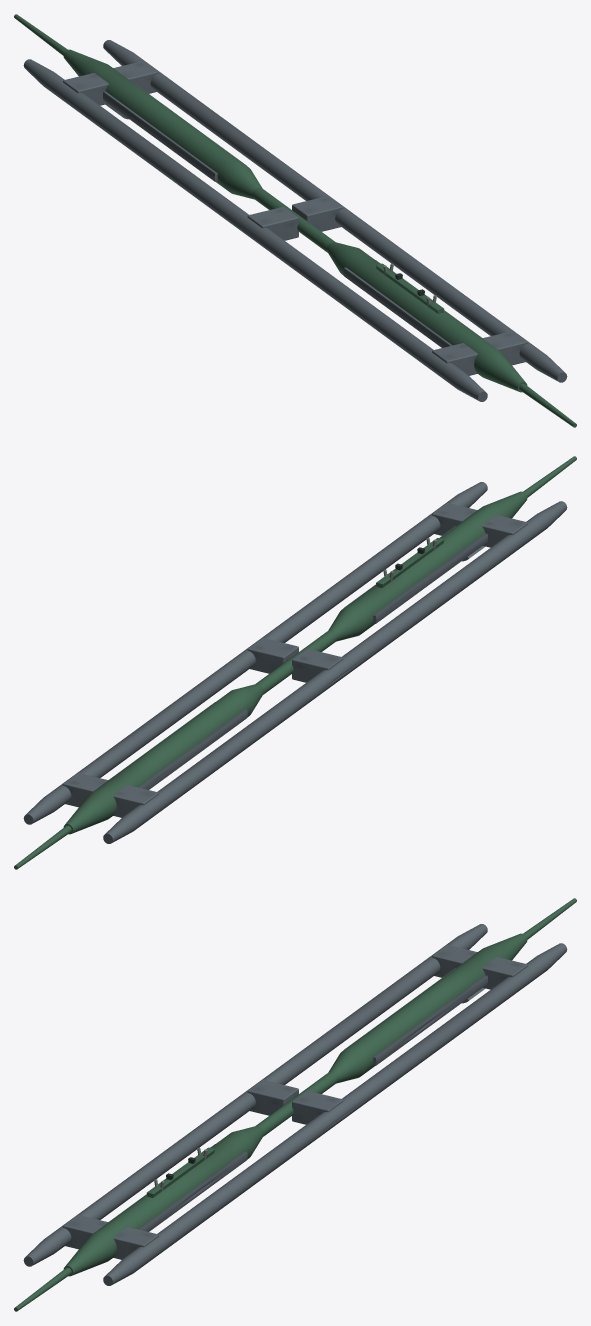
3 views of the same model, one above another, from view 1: azimuth 30°, elevation 25°; view 2: azimuth 150°, elevation 25°; view 3: azimuth 330°, elevation 25° (orthographic).
Parts seen in each view (by area): view 1: Mikotaj Kal-Na-Xanth grey left frame, Mikotaj Kal-Na-Xanth grey right frame, Mikotaj Kal-Na-Xanth green rear section, Mikotaj Kal-Na-Xanth green forward section, Mikotaj Kal-Na-Xanth green axial spine, Mikotaj Kal-Na-Xanth fitted casting 3, Mikotaj Kal-Na-Xanth fitted casting 1, Mikotaj Kal-Na-Xanth cross brace 1 1, Mikotaj Kal-Na-Xanth cross brace 1 -1, Mikotaj Kal-Na-Xanth cross brace 0 -1, Mikotaj Kal-Na-Xanth cross brace 2 -1, Mikotaj Kal-Na-Xanth cross brace 0 1 (+2 smaller); view 2: Mikotaj Kal-Na-Xanth grey left frame, Mikotaj Kal-Na-Xanth grey right frame, Mikotaj Kal-Na-Xanth green rear section, Mikotaj Kal-Na-Xanth green forward section, Mikotaj Kal-Na-Xanth green axial spine, Mikotaj Kal-Na-Xanth fitted casting 1, Mikotaj Kal-Na-Xanth fitted casting 3, Mikotaj Kal-Na-Xanth cross brace 1 1, Mikotaj Kal-Na-Xanth cross brace 1 -1, Mikotaj Kal-Na-Xanth cross brace 2 -1, Mikotaj Kal-Na-Xanth cross brace 0 -1, Mikotaj Kal-Na-Xanth cross brace 2 1 (+2 smaller); view 3: Mikotaj Kal-Na-Xanth grey right frame, Mikotaj Kal-Na-Xanth grey left frame, Mikotaj Kal-Na-Xanth green rear section, Mikotaj Kal-Na-Xanth green forward section, Mikotaj Kal-Na-Xanth green axial spine, Mikotaj Kal-Na-Xanth fitted casting 2, Mikotaj Kal-Na-Xanth fitted casting 0, Mikotaj Kal-Na-Xanth cross brace 1 -1, Mikotaj Kal-Na-Xanth cross brace 1 1, Mikotaj Kal-Na-Xanth cross brace 0 1, Mikotaj Kal-Na-Xanth cross brace 2 1, Mikotaj Kal-Na-Xanth cross brace 0 -1 (+2 smaller).
Boxes of the visible parts, x1,y1,x2,y2 form: Mikotaj Kal-Na-Xanth grey left frame: [23, 59, 487, 401]; Mikotaj Kal-Na-Xanth grey right frame: [103, 40, 567, 382]; Mikotaj Kal-Na-Xanth green rear section: [63, 49, 262, 199]; Mikotaj Kal-Na-Xanth green forward section: [327, 242, 527, 392]; Mikotaj Kal-Na-Xanth green axial spine: [14, 14, 576, 427]; Mikotaj Kal-Na-Xanth fitted casting 3: [103, 91, 217, 181]; Mikotaj Kal-Na-Xanth fitted casting 1: [343, 267, 452, 347]; Mikotaj Kal-Na-Xanth cross brace 1 1: [292, 196, 343, 231]; Mikotaj Kal-Na-Xanth cross brace 1 -1: [247, 206, 298, 240]; Mikotaj Kal-Na-Xanth cross brace 0 -1: [432, 343, 477, 375]; Mikotaj Kal-Na-Xanth cross brace 2 -1: [63, 73, 108, 105]; Mikotaj Kal-Na-Xanth cross brace 0 1: [482, 331, 527, 365]; Mikotaj Kal-Na-Xanth grey left frame: [103, 501, 567, 843]; Mikotaj Kal-Na-Xanth grey right frame: [23, 482, 487, 824]; Mikotaj Kal-Na-Xanth green rear section: [63, 684, 263, 834]; Mikotaj Kal-Na-Xanth green forward section: [328, 491, 527, 641]; Mikotaj Kal-Na-Xanth green axial spine: [14, 456, 576, 869]; Mikotaj Kal-Na-Xanth fitted casting 1: [373, 533, 487, 623]; Mikotaj Kal-Na-Xanth fitted casting 3: [138, 709, 247, 789]; Mikotaj Kal-Na-Xanth cross brace 1 1: [247, 638, 298, 673]; Mikotaj Kal-Na-Xanth cross brace 1 -1: [292, 648, 343, 682]; Mikotaj Kal-Na-Xanth cross brace 2 -1: [113, 785, 158, 817]; Mikotaj Kal-Na-Xanth cross brace 0 -1: [482, 515, 527, 547]; Mikotaj Kal-Na-Xanth cross brace 2 1: [63, 773, 108, 807]; Mikotaj Kal-Na-Xanth grey right frame: [103, 943, 567, 1285]; Mikotaj Kal-Na-Xanth grey left frame: [23, 924, 487, 1266]; Mikotaj Kal-Na-Xanth green rear section: [328, 933, 527, 1083]; Mikotaj Kal-Na-Xanth green forward section: [63, 1126, 263, 1276]; Mikotaj Kal-Na-Xanth green axial spine: [14, 898, 576, 1311]; Mikotaj Kal-Na-Xanth fitted casting 2: [373, 975, 487, 1065]; Mikotaj Kal-Na-Xanth fitted casting 0: [138, 1151, 247, 1231]; Mikotaj Kal-Na-Xanth cross brace 1 -1: [247, 1080, 298, 1115]; Mikotaj Kal-Na-Xanth cross brace 1 1: [292, 1090, 343, 1124]; Mikotaj Kal-Na-Xanth cross brace 0 1: [113, 1227, 158, 1259]; Mikotaj Kal-Na-Xanth cross brace 2 1: [482, 957, 527, 989]; Mikotaj Kal-Na-Xanth cross brace 0 -1: [63, 1215, 108, 1249].
Bounding box in the file's own units: 0.196 × 0.0808 × 2.
5 materials, 3 textured.
